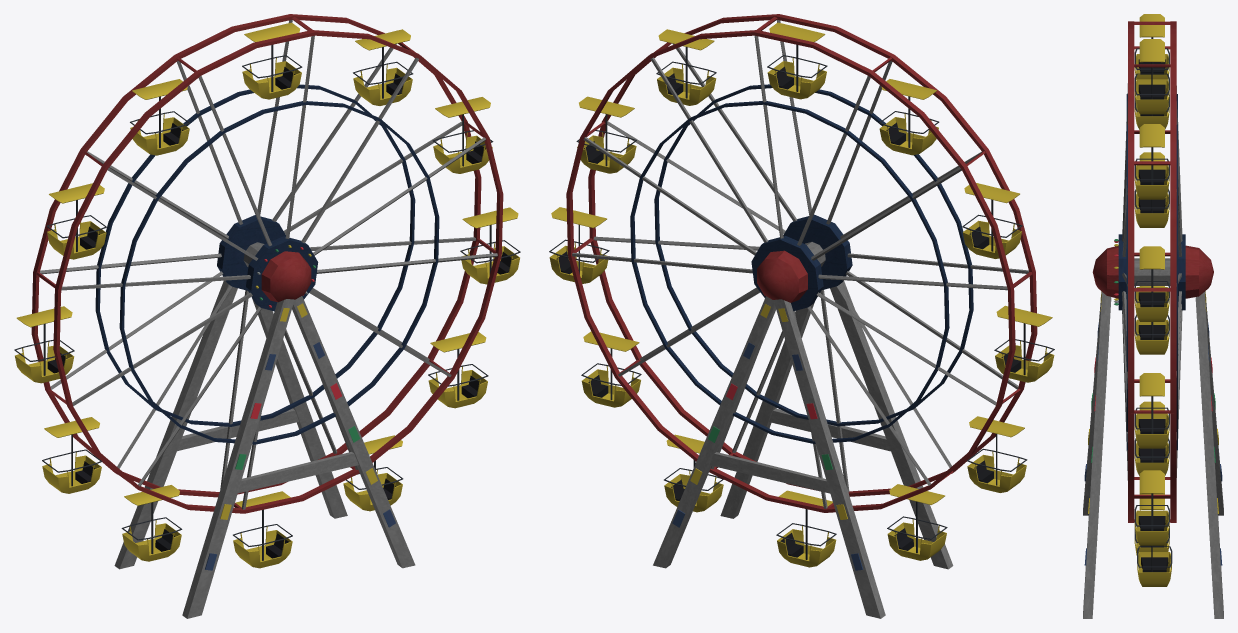
Rendered from far.fbx.
The picture shows the model from 3 angles, left to right: view 1: azimuth 30°, elevation 25°; view 2: azimuth 150°, elevation 25°; view 3: azimuth 270°, elevation 25°; orthographic projection. The views are drawn at different scales.
Visible parts, largest first — view 1: polySurface2, stand, seats11, seats4, seats3, seats, seats2, seats7, seats10, seats1, seats5, seats9 (+2 smaller); view 2: polySurface2, stand, seats11, seats3, seats4, seats, seats10, seats7, seats2, seats5, seats1, seats9 (+2 smaller); view 3: polySurface2, stand, seats8, seats7, seats11, seats10, seats9, seats2, seats6, seats, seats3, seats4 (+2 smaller).
Boxes of the visible parts, x1,y1,x2,y2 form: polySurface2: (31,14,503,513); stand: (114,251,415,618); seats11: (242,22,302,99); seats4: (121,485,182,561); seats3: (42,417,102,493); seats: (130,79,190,155); seats2: (14,306,74,383); seats7: (428,332,488,408); seats10: (353,29,413,105); seats1: (46,183,106,259); seats5: (233,491,292,568); seats9: (432,97,493,173); polySurface2: (566,14,1037,512); stand: (653,250,953,618); seats11: (767,22,827,99); seats3: (967,416,1027,492); seats4: (887,484,947,560); seats: (879,79,939,155); seats10: (656,29,716,105); seats7: (581,331,641,407); seats2: (994,305,1054,382); seats5: (776,490,836,567); seats1: (962,183,1022,258); seats9: (576,96,636,173); polySurface2: (1114,21,1185,522); stand: (1083,245,1223,618); seats8: (1134,373,1169,448); seats7: (1134,470,1169,545); seats11: (1134,39,1169,114); seats10: (1134,124,1169,199); seats9: (1134,246,1169,321); seats2: (1134,152,1169,227); seats6: (1137,545,1172,586); seats: (1134,14,1169,80); seats3: (1134,286,1169,354); seats4: (1134,401,1169,475).
Size of the model in its own units: 2030 by 2109 by 518.
